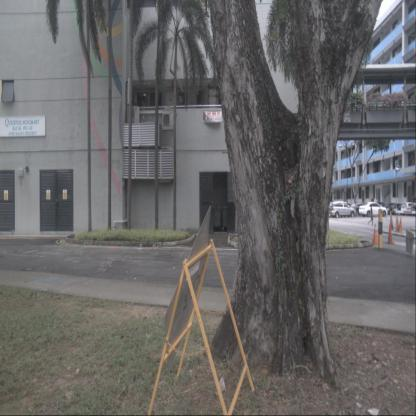cone: (386, 224, 394, 244), (372, 224, 378, 244), (398, 216, 404, 233), (395, 216, 400, 233), (389, 216, 394, 232)
